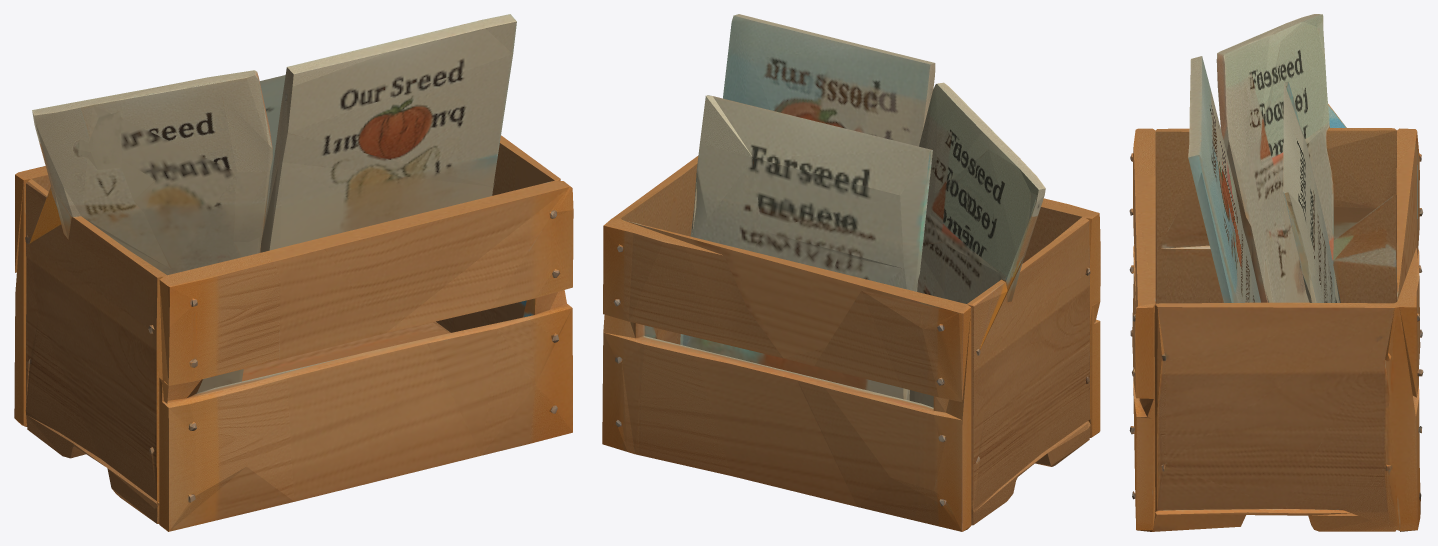
File: seed_crate.glb
The picture shows the model from 3 angles, left to right: view 1: azimuth 30°, elevation 25°; view 2: azimuth 150°, elevation 25°; view 3: azimuth 270°, elevation 25°; orthographic projection. The views are drawn at different scales.
Size of the model in its own units: 1.9 by 1.65 by 1.2.
1 material, 1 textured.
